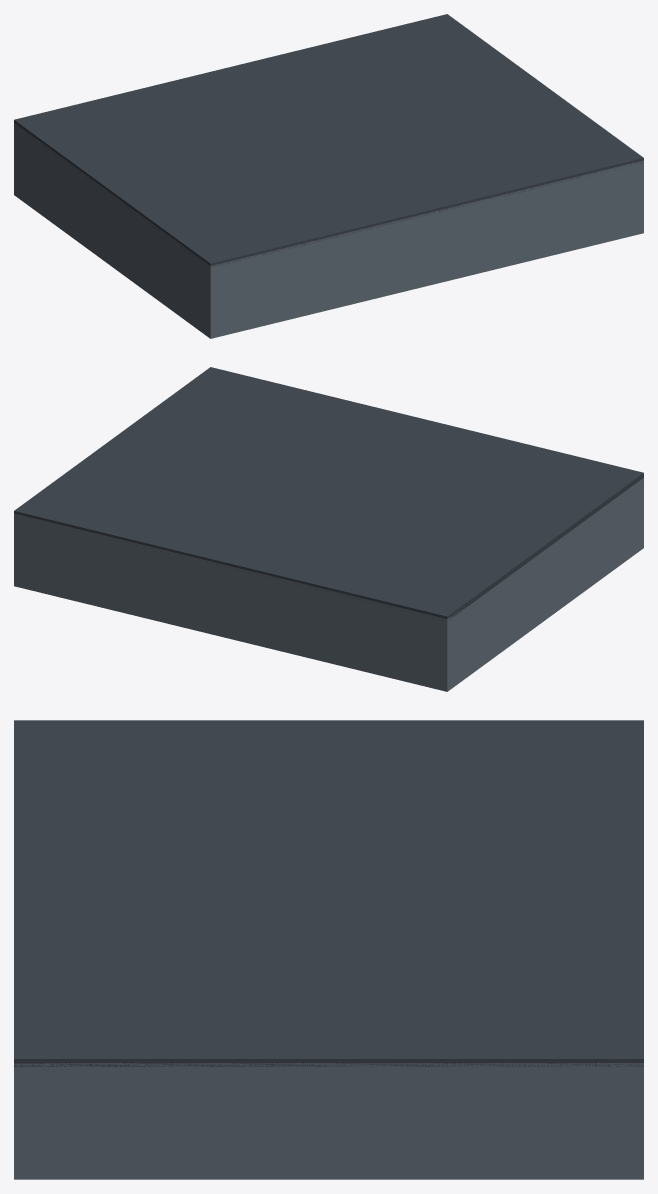
File: dp-shell.glb
The picture shows the model from 3 angles, top to bottom: view 1: azimuth 30°, elevation 25°; view 2: azimuth 150°, elevation 25°; view 3: azimuth 270°, elevation 25°; orthographic projection. The views are drawn at different scales.
Visible parts, largest first — view 1: dp-shell; view 2: dp-shell; view 3: dp-shell.
Boxes of the visible parts, x1,y1,x2,y2 form: dp-shell: (14, 14, 643, 338); dp-shell: (14, 367, 643, 691); dp-shell: (14, 720, 643, 1179).
Size of the model in its own units: 56 by 9.3 by 44.
